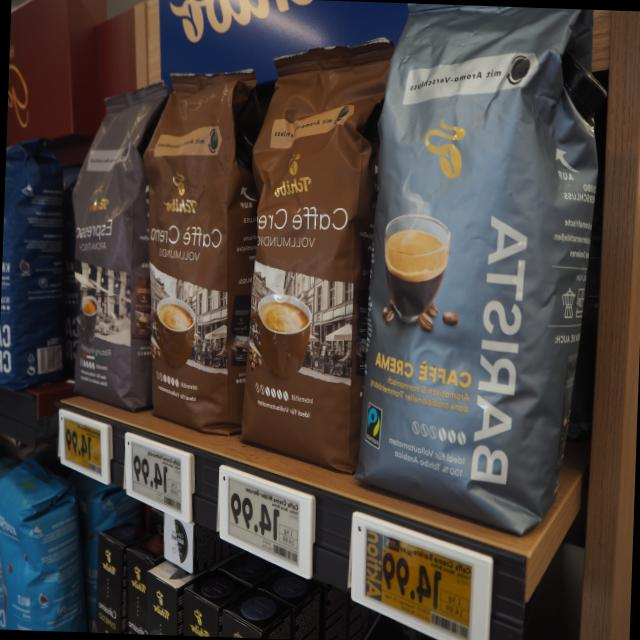Barista CC: (346, 4, 618, 544)
CC Vollmundig 36 Pads: (232, 29, 394, 482), (128, 58, 265, 445)
Espresso Aromatisch: (58, 67, 168, 417)
